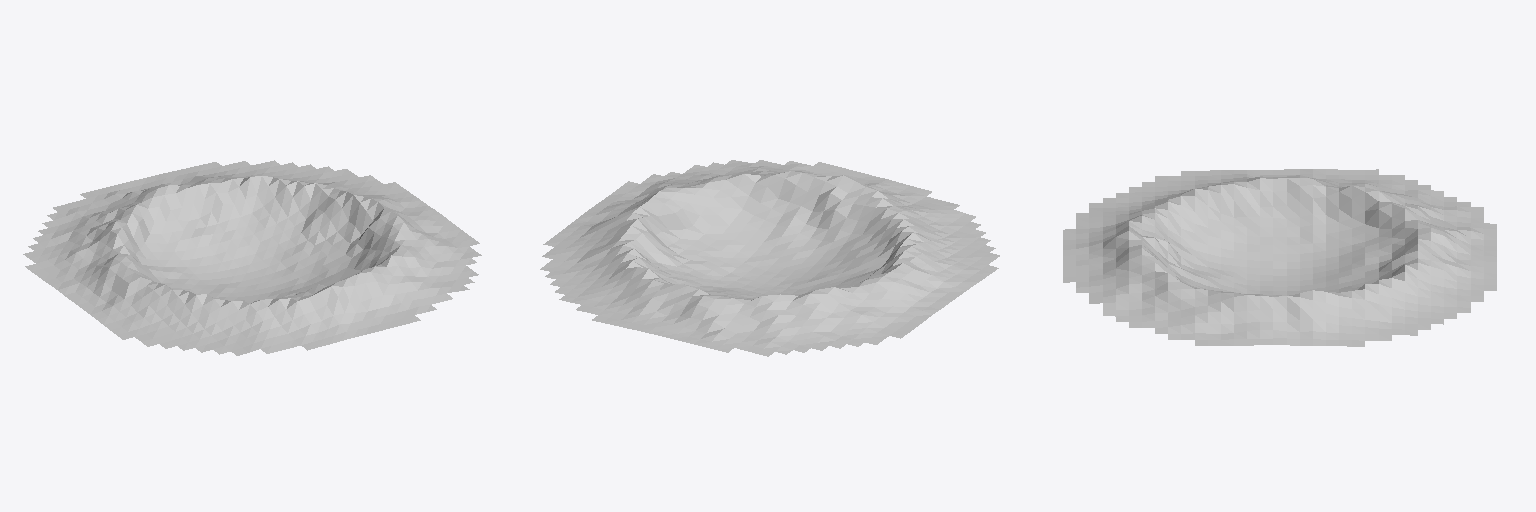
File: DepotMiniterrainCollider.obj
3 views of the same model, side by side, from view 1: azimuth 30°, elevation 25°; view 2: azimuth 150°, elevation 25°; view 3: azimuth 270°, elevation 25° (orthographic).
Parts seen in each view (by area): view 1: terrainCollision; view 2: terrainCollision; view 3: terrainCollision.
Boxes of the visible parts, box(x1,y1,x2,y2) form: terrainCollision: box(23, 160, 481, 355); terrainCollision: box(540, 160, 999, 356); terrainCollision: box(1063, 169, 1496, 346).
Bounding box in the file's own units: 118 × 15.67 × 122.